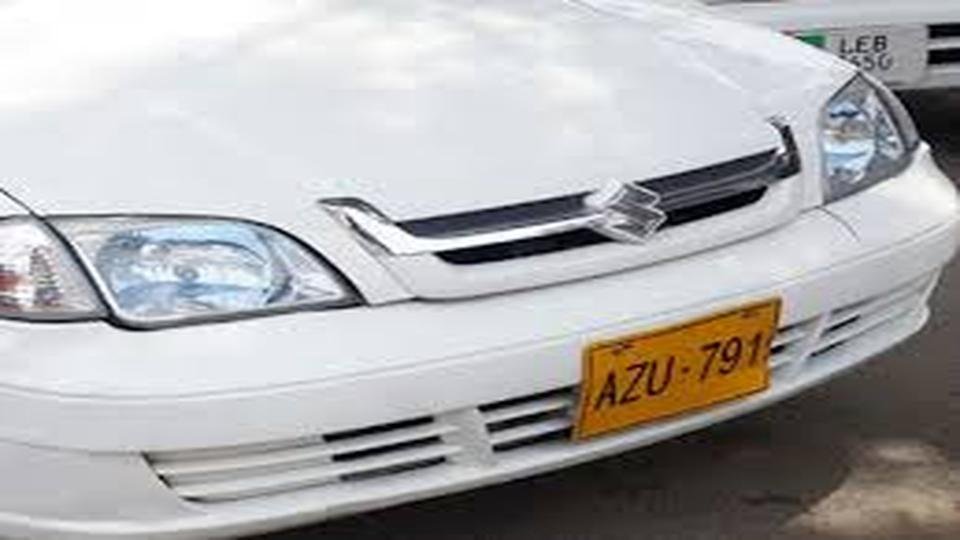NumberPlate: (554, 309, 796, 443)
